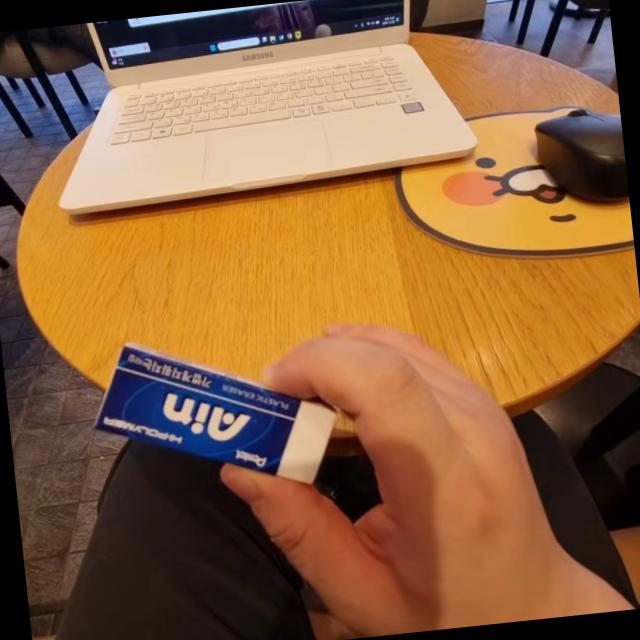eraser: (76, 314, 356, 498)
grab_eraser: (95, 285, 564, 640)
hand: (289, 309, 605, 640)
mouse: (527, 106, 629, 206)
